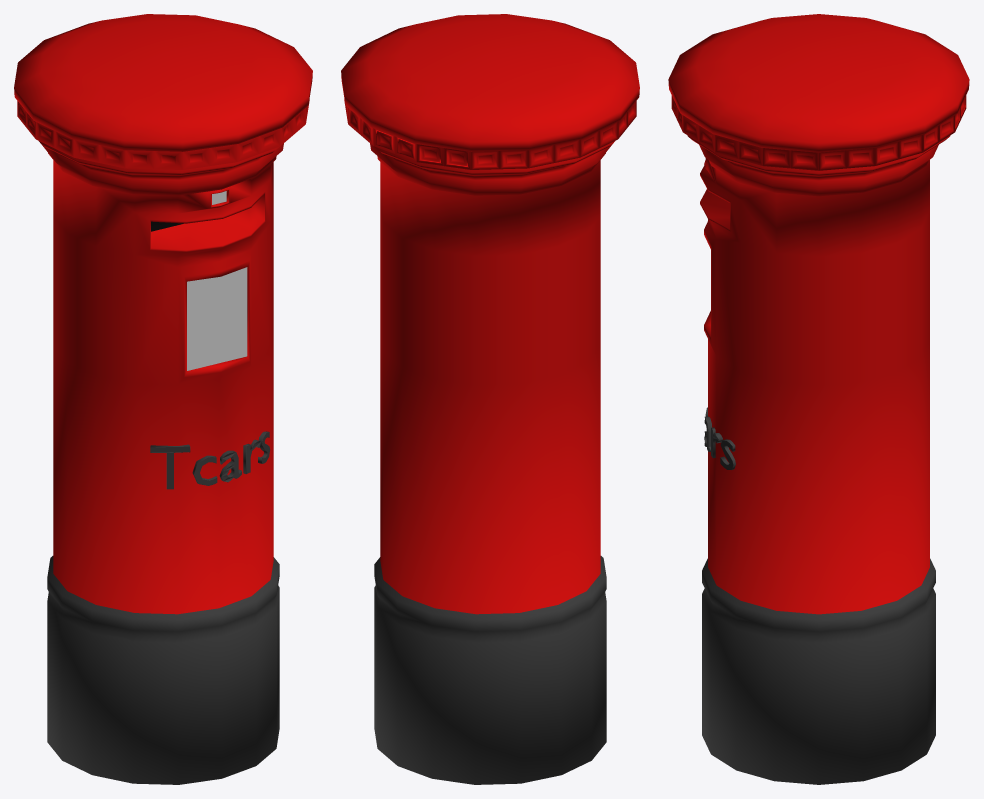
3 views of the same model, side by side, from view 1: azimuth 30°, elevation 25°; view 2: azimuth 150°, elevation 25°; view 3: azimuth 270°, elevation 25° (orthographic).
Parts seen in each view (by area): view 1: Text; view 2: Text; view 3: Text.
Part boxes in pixels (<box>): Text: <box>14,14,312,784</box>; Text: <box>341,14,639,784</box>; Text: <box>668,14,969,784</box>.
Bounding box in the file's own units: 530 × 1326 × 530.
